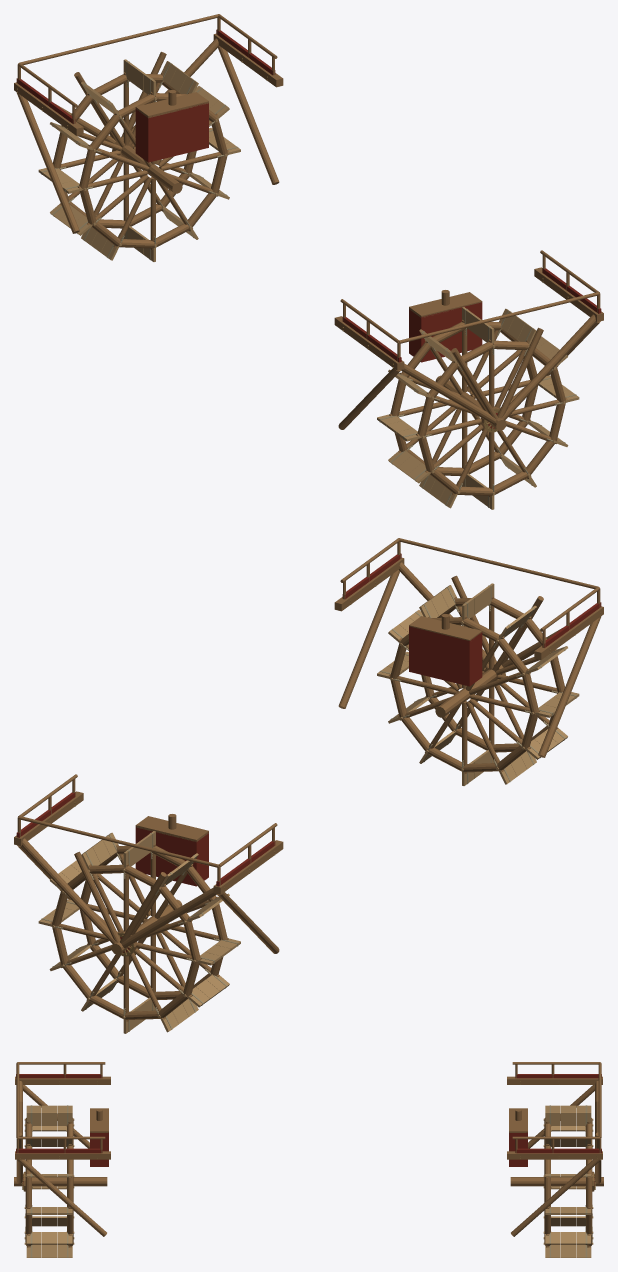
File: thalassa-twin-paddles.glb
3 renders of one model, top to bottom at view 1: azimuth 30°, elevation 25°; view 2: azimuth 150°, elevation 25°; view 3: azimuth 270°, elevation 25°, orthographic. The views are drawn at different scales.
Visible parts, largest first — view 1: Static_Paddle_oiled cedar, Paddle_starboard_rotor_Paddle_oiled cedar, Paddle_port_rotor_Paddle_oiled cedar, Static_Paddle_oxblood lacquer, Paddle_starboard_rotor_Paddle_honey oak, Paddle_port_rotor_Paddle_honey oak, Paddle_port_rotor_Paddle_tarred hemp, Paddle_starboard_rotor_Paddle_tarred hemp; view 2: Static_Paddle_oiled cedar, Paddle_port_rotor_Paddle_oiled cedar, Paddle_starboard_rotor_Paddle_oiled cedar, Static_Paddle_oxblood lacquer, Paddle_port_rotor_Paddle_honey oak, Paddle_starboard_rotor_Paddle_honey oak, Paddle_starboard_rotor_Paddle_tarred hemp, Paddle_port_rotor_Paddle_tarred hemp; view 3: Static_Paddle_oiled cedar, Paddle_port_rotor_Paddle_honey oak, Paddle_starboard_rotor_Paddle_honey oak, Static_Paddle_oxblood lacquer, Paddle_port_rotor_Paddle_oiled cedar, Paddle_starboard_rotor_Paddle_oiled cedar, Paddle_port_rotor_Paddle_tarred hemp, Paddle_starboard_rotor_Paddle_tarred hemp.
Part boxes in pixels (left/top/right/bottom): Static_Paddle_oiled cedar: left=14, top=14, right=603, bottom=429; Paddle_starboard_rotor_Paddle_oiled cedar: left=389, top=320, right=567, bottom=497; Paddle_port_rotor_Paddle_oiled cedar: left=53, top=72, right=228, bottom=249; Static_Paddle_oxblood lacquer: left=16, top=29, right=601, bottom=362; Paddle_starboard_rotor_Paddle_honey oak: left=377, top=307, right=579, bottom=509; Paddle_port_rotor_Paddle_honey oak: left=38, top=59, right=240, bottom=261; Paddle_port_rotor_Paddle_tarred hemp: left=41, top=61, right=238, bottom=260; Paddle_starboard_rotor_Paddle_tarred hemp: left=379, top=309, right=576, bottom=507; Static_Paddle_oiled cedar: left=14, top=538, right=603, bottom=953; Paddle_port_rotor_Paddle_oiled cedar: left=50, top=844, right=228, bottom=1021; Paddle_starboard_rotor_Paddle_oiled cedar: left=389, top=596, right=564, bottom=773; Static_Paddle_oxblood lacquer: left=16, top=553, right=601, bottom=886; Paddle_port_rotor_Paddle_honey oak: left=38, top=831, right=240, bottom=1033; Paddle_starboard_rotor_Paddle_honey oak: left=377, top=583, right=579, bottom=785; Paddle_starboard_rotor_Paddle_tarred hemp: left=379, top=585, right=576, bottom=784; Paddle_port_rotor_Paddle_tarred hemp: left=41, top=833, right=238, bottom=1031; Static_Paddle_oiled cedar: left=15, top=1062, right=602, bottom=1236; Paddle_port_rotor_Paddle_honey oak: left=543, top=1105, right=593, bottom=1257; Paddle_starboard_rotor_Paddle_honey oak: left=24, top=1105, right=74, bottom=1257; Static_Paddle_oxblood lacquer: left=16, top=1074, right=601, bottom=1166; Paddle_port_rotor_Paddle_oiled cedar: left=510, top=1118, right=603, bottom=1247; Paddle_starboard_rotor_Paddle_oiled cedar: left=14, top=1118, right=107, bottom=1247; Paddle_port_rotor_Paddle_tarred hemp: left=549, top=1105, right=592, bottom=1257; Paddle_starboard_rotor_Paddle_tarred hemp: left=25, top=1105, right=68, bottom=1257.
Bounding box in the file's own units: 9.58 × 8.7 × 30.7.
